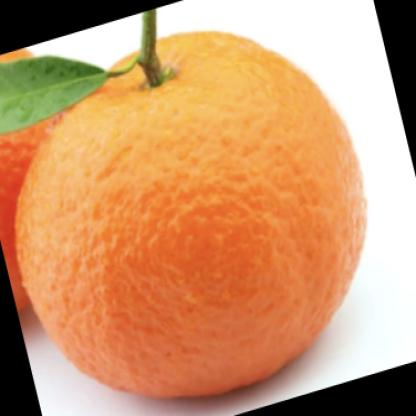fresh: (20, 34, 367, 395)
